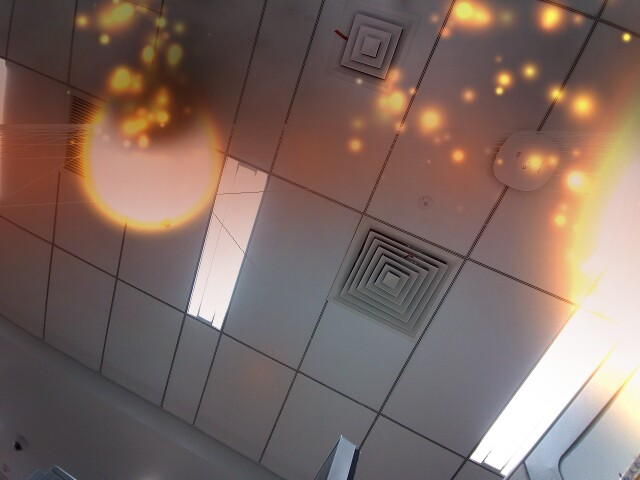fire: (564, 64, 637, 437), (75, 87, 222, 236)
